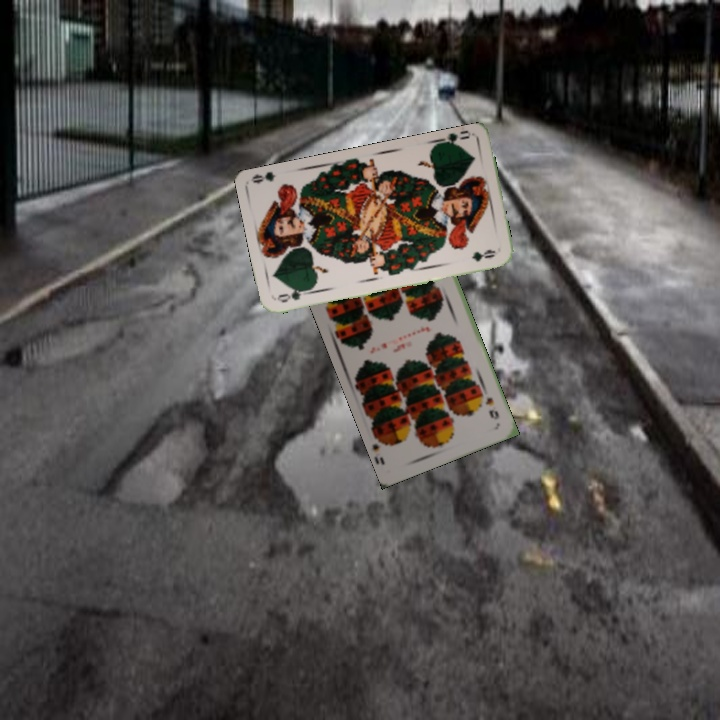GO: (273, 283, 314, 305), (433, 130, 472, 149)
S9: (481, 393, 502, 422)
